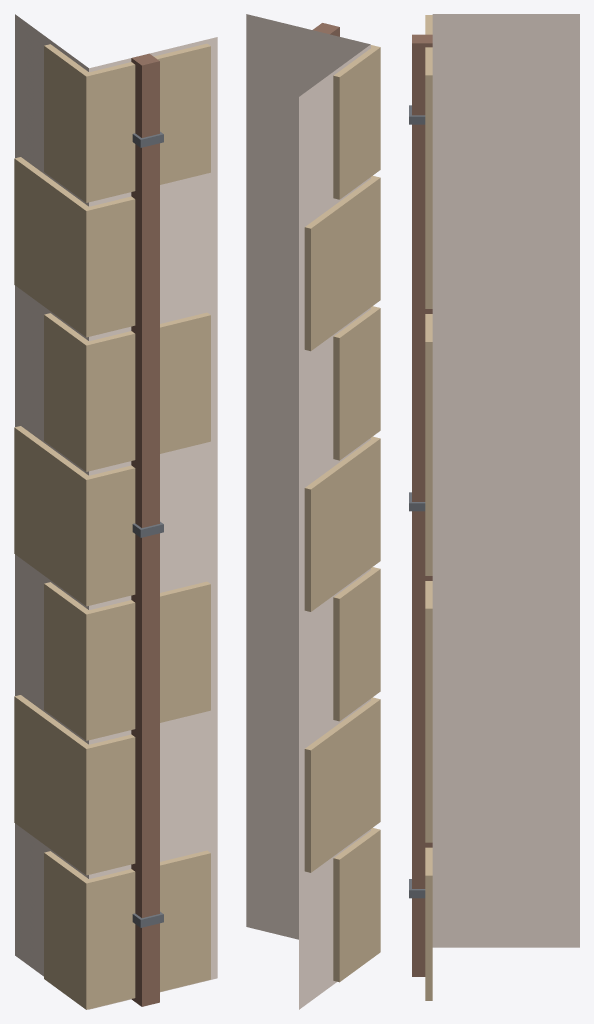
Rendered from mid-c1_close.fbx.
The picture shows the model from 3 angles, left to right: view 1: azimuth 30°, elevation 25°; view 2: azimuth 150°, elevation 25°; view 3: azimuth 270°, elevation 25°; orthographic projection. The views are drawn at different scales.
Parts seen in each view (by area): view 1: a2000s2/200/mid-c1_close; view 2: a2000s2/200/mid-c1_close; view 3: a2000s2/200/mid-c1_close.
Boxes of the visible parts, x1=… form: a2000s2/200/mid-c1_close: x1=14, y1=14, x2=217, y2=1009; a2000s2/200/mid-c1_close: x1=246, y1=14, x2=380, y2=1009; a2000s2/200/mid-c1_close: x1=409, y1=14, x2=579, y2=1000.
Size of the model in its own units: 0.525 by 3.5 by 0.58.
